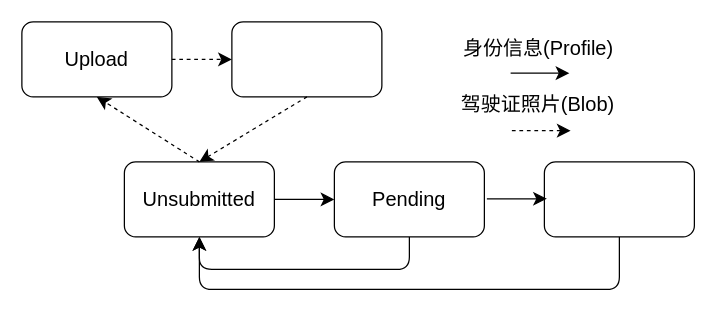
Some shapes in this 716 by 324 pixel diagram are drawn without their labels. The shapes that lost their labels are listed below. From the top down, each one's box as (x1, y1, x2, y2) in pixels, then its label:
(231, 21, 382, 97): Verify
(543, 161, 694, 237): Verified
